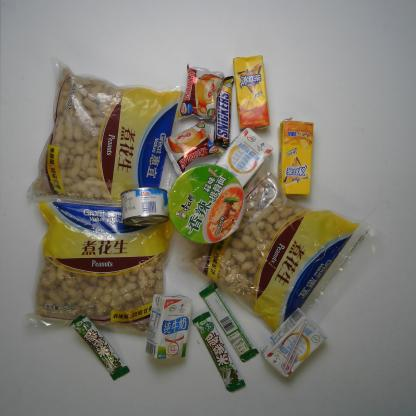Canned Food: (120, 187, 167, 225)
Chocolate: (199, 282, 259, 363), (192, 310, 248, 395), (69, 315, 130, 380), (211, 74, 235, 150)
Dessert: (159, 120, 220, 176), (176, 62, 224, 120)
Dried Food: (184, 169, 373, 338), (26, 57, 186, 214), (26, 196, 176, 338)
Drink: (230, 54, 272, 131), (276, 117, 314, 198)
Instant Noodles: (167, 164, 246, 244)
Milk: (260, 308, 327, 380), (208, 127, 274, 192), (145, 293, 193, 362)
